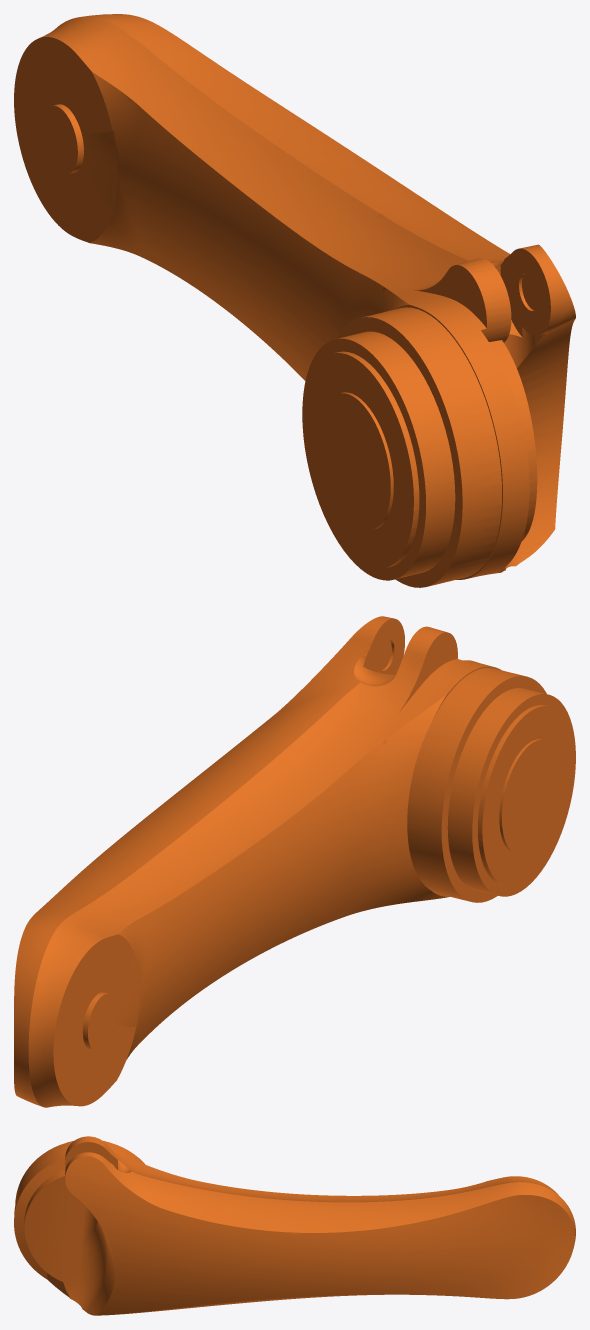
3 renders of one model, top to bottom at view 1: azimuth 30°, elevation 25°; view 2: azimuth 150°, elevation 25°; view 3: azimuth 270°, elevation 25°, orthographic. The views are drawn at different scales.
Parts seen in each view (by area): view 1: L2; view 2: L2; view 3: L2.
Part boxes in pixels (box(x1,y1,x2,y2)): L2: box(14, 14, 575, 587); L2: box(14, 616, 575, 1107); L2: box(14, 1136, 575, 1315).
Bounding box in the file's own units: 0.4384 × 1.51 × 0.4819.
